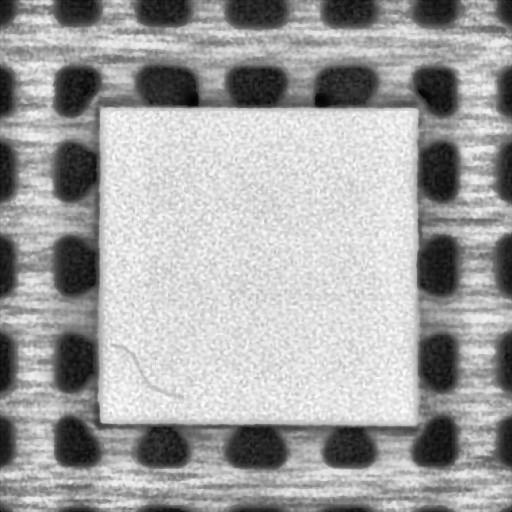DIE_CRACK: (111, 340, 180, 398)
